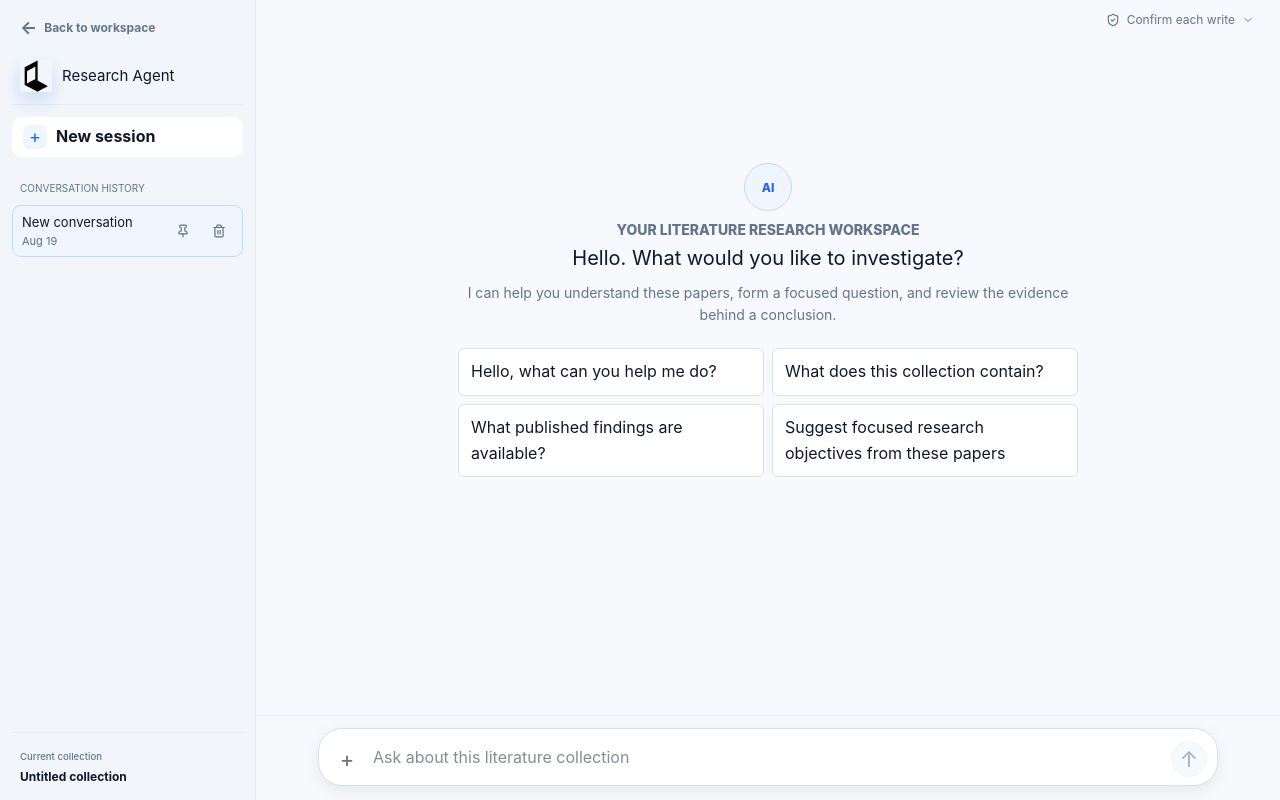
collections/[id]/assistant Research Agent › keeps history unchanged and permits retry after a pin request fails
Check: the text box named "Message" is enabled, box [373,737,1163,777]
Click the button named "Pin conversation": click(183, 231) [169,217,197,245]
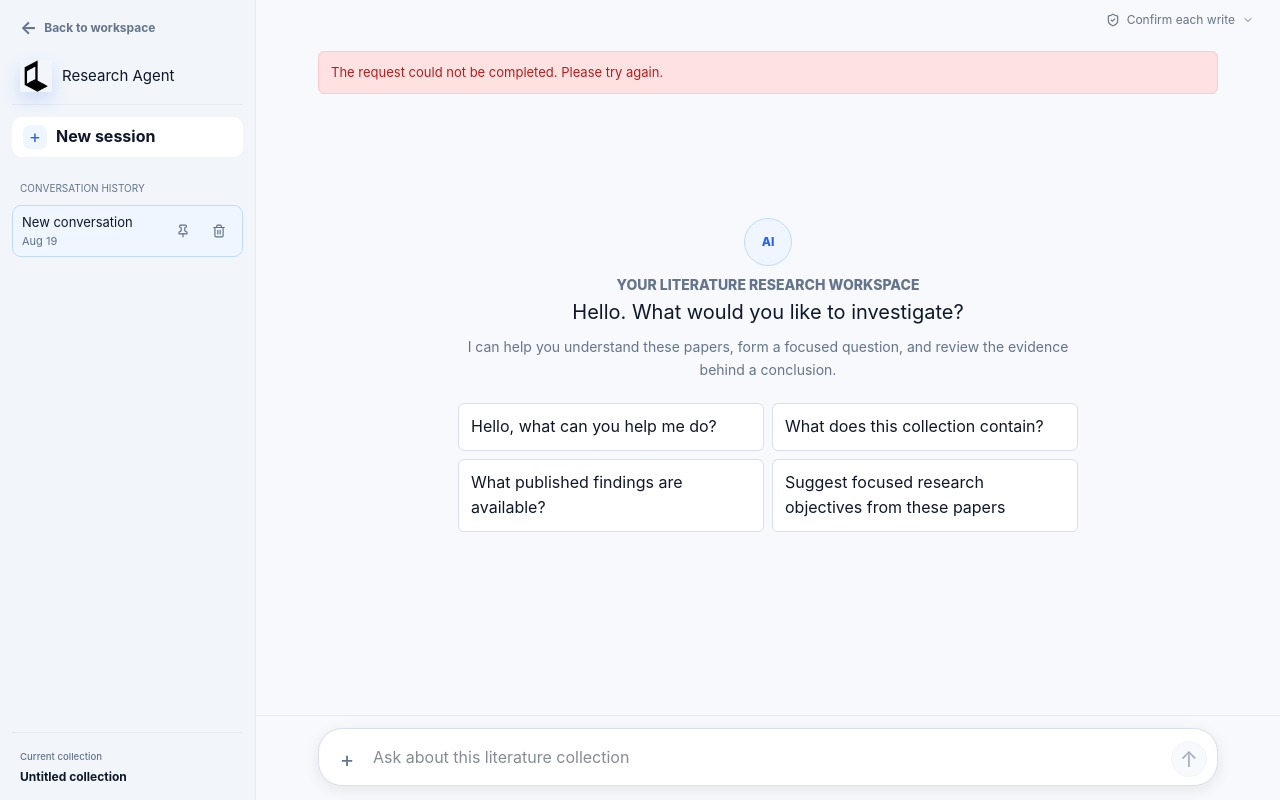
Check: the text "The request could not be completed. Please try again." is shown, box [331,62,663,83]
